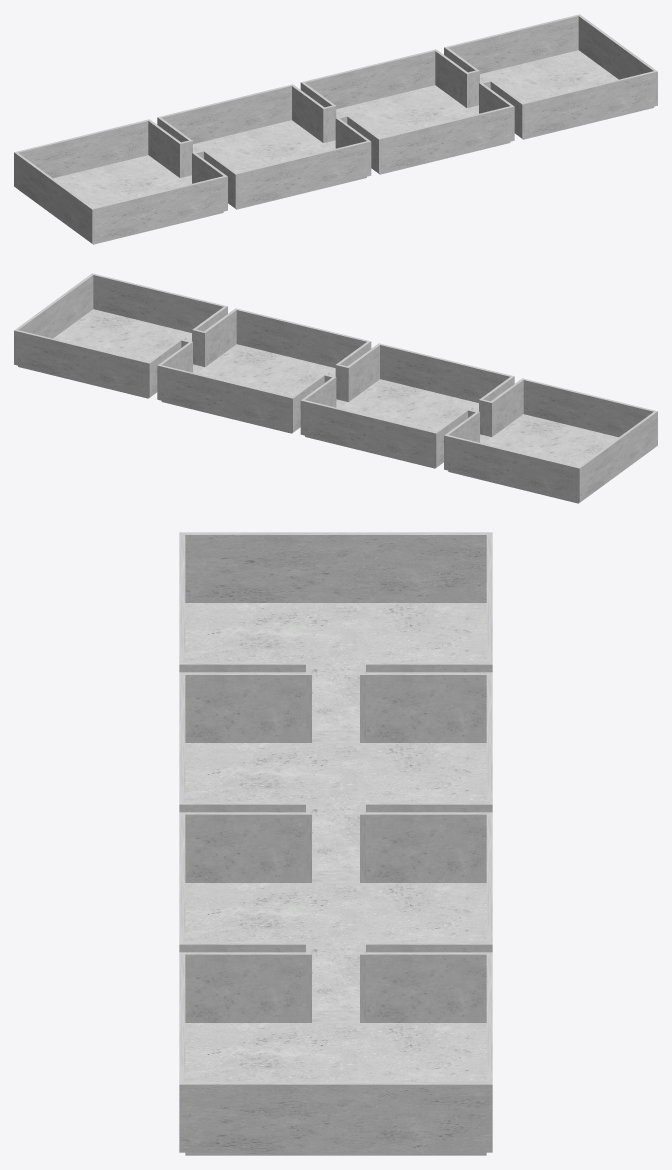
Rendered from Stage.fbx.
The picture shows the model from 3 angles, top to bottom: view 1: azimuth 30°, elevation 25°; view 2: azimuth 150°, elevation 25°; view 3: azimuth 270°, elevation 25°; orthographic projection. The views are drawn at different scales.
Visible parts, largest first — view 1: Box006, Box008, Box005, Box007, Box031, Box030, Box032, Box001, Box004, Box002, Box003, Box029 (+14 smaller); view 2: Box003, Box002, Box001, Box004, Box031, Box030, Box032, Box007, Box005, Box008, Box006, Box029 (+14 smaller); view 3: Box009, Box010, Box029, Box030, Box031, Box032, Box017, Box018, Box019, Box020, Box021, Box022 (+14 smaller).
Part boxes in pixels (x1,y1,x2,y2): Box006: (237,141,368,207); Box008: (524,71,655,137); Box005: (94,176,225,242); Box007: (380,106,511,172); Box031: (336,85,510,174); Box030: (193,120,366,209); Box032: (480,50,653,139); Box001: (304,50,435,108); Box004: (17,120,148,178); Box002: (447,15,578,73); Box003: (160,85,291,143); Box029: (18,155,223,244); Box003: (303,400,434,466); Box002: (16,330,147,396); Box001: (160,365,291,431); Box004: (446,435,577,501); Box031: (161,344,335,433); Box030: (305,379,478,468); Box032: (18,309,191,398); Box007: (236,309,367,367); Box005: (523,379,654,437); Box008: (93,274,224,332); Box006: (380,344,511,402); Box029: (448,414,653,503); Box009: (179,1082,492,1152); Box010: (179,532,492,602); Box029: (185,603,486,730); Box030: (185,743,486,870); Box031: (185,883,486,1010); Box032: (185,1023,486,1155); Box017: (179,952,305,1022); Box018: (366,952,492,1022); Box019: (366,812,492,882); Box020: (179,812,305,882); Box021: (179,672,305,742); Box022: (366,672,492,742).
Size of the model in its own units: 434 by 27 by 104.
